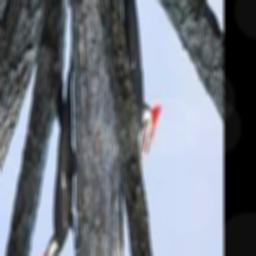Woodpecker: (39, 51, 79, 256), (120, 0, 162, 179)
